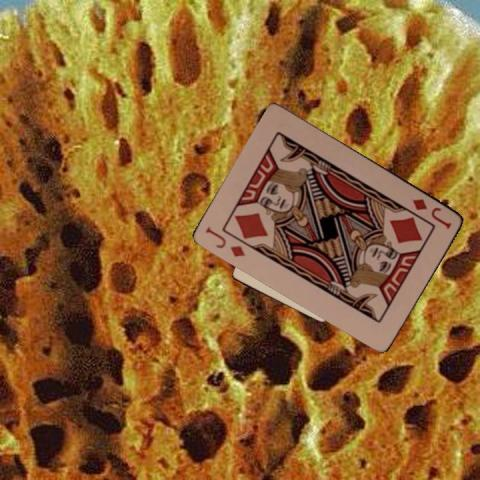Jd: (203, 223, 247, 259), (410, 195, 453, 231)
